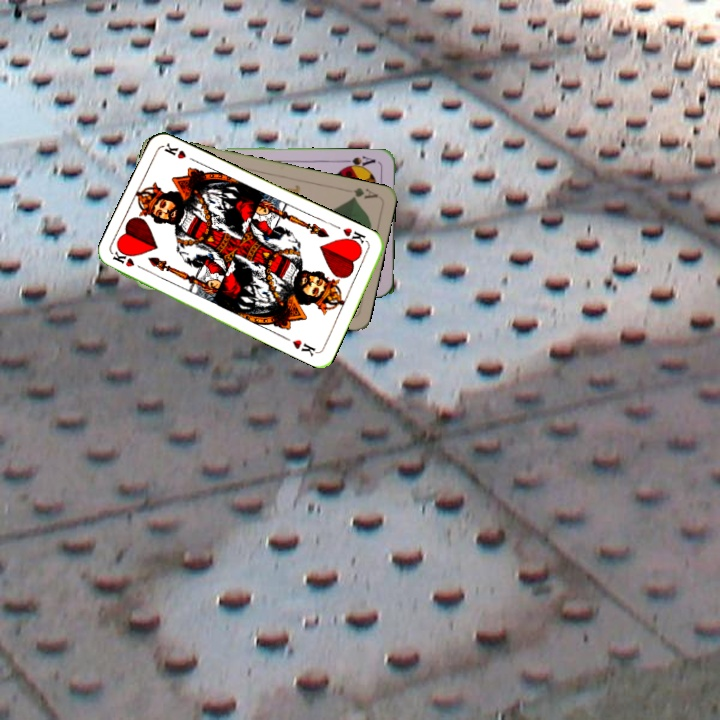GA: (347, 183, 381, 203)
HK: (109, 247, 149, 273), (339, 223, 368, 250)
SA: (339, 152, 378, 172)
